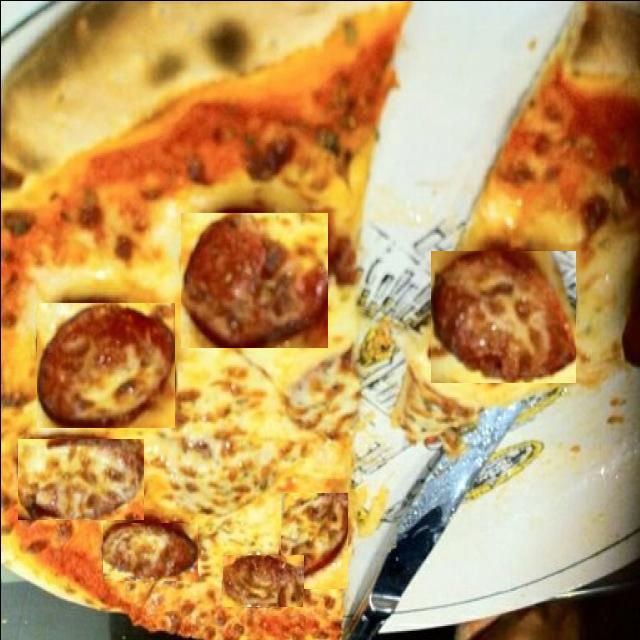pepperoni: (180, 210, 327, 346), (428, 250, 574, 382), (35, 300, 174, 426), (17, 438, 143, 519), (278, 492, 346, 588), (102, 522, 197, 580), (222, 554, 302, 606)
pizza: (0, 0, 402, 632), (398, 0, 640, 443)
